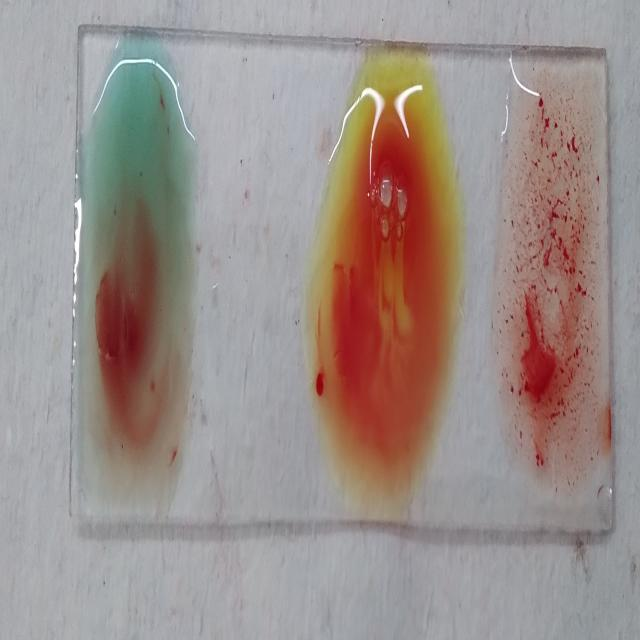D: (499, 76, 601, 482)
